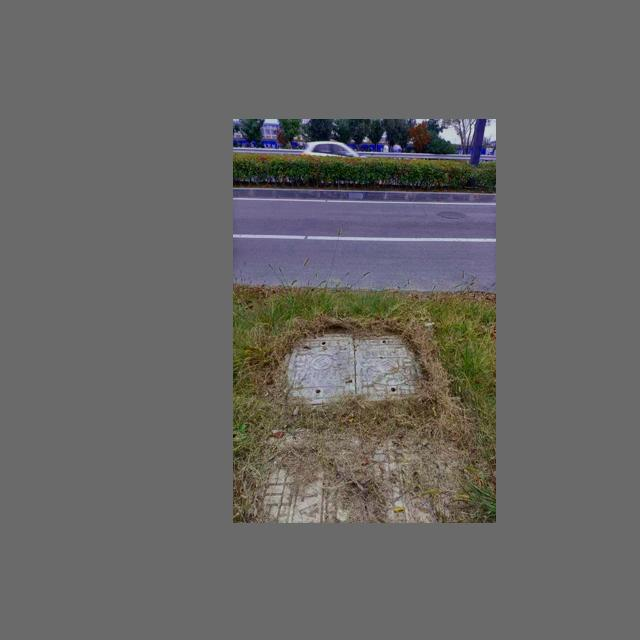good: (282, 333, 422, 402)
